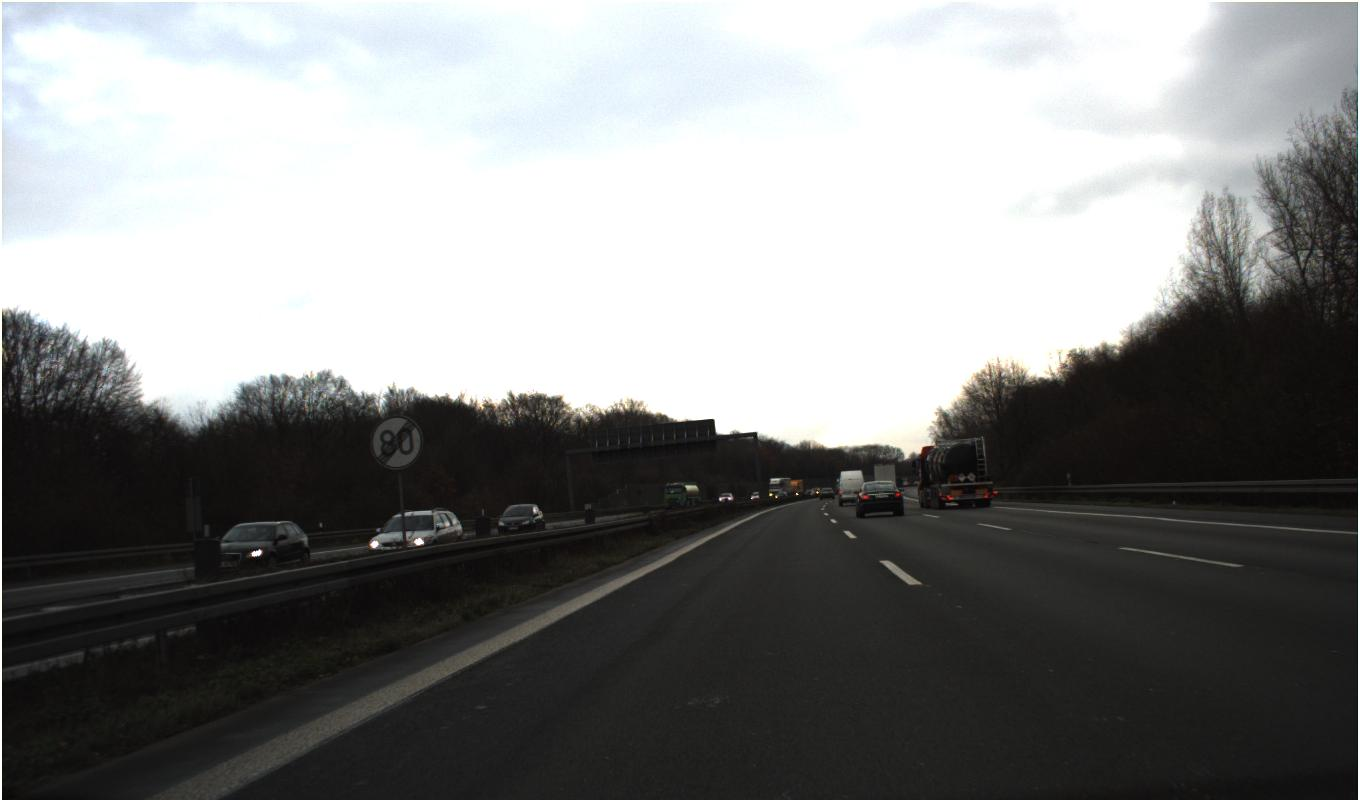prohibitory: (369, 414, 424, 470)
